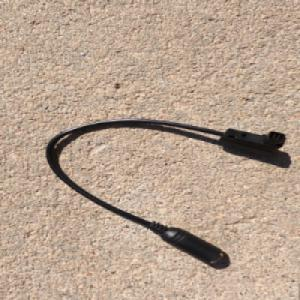Wire: (42, 118, 290, 267)
